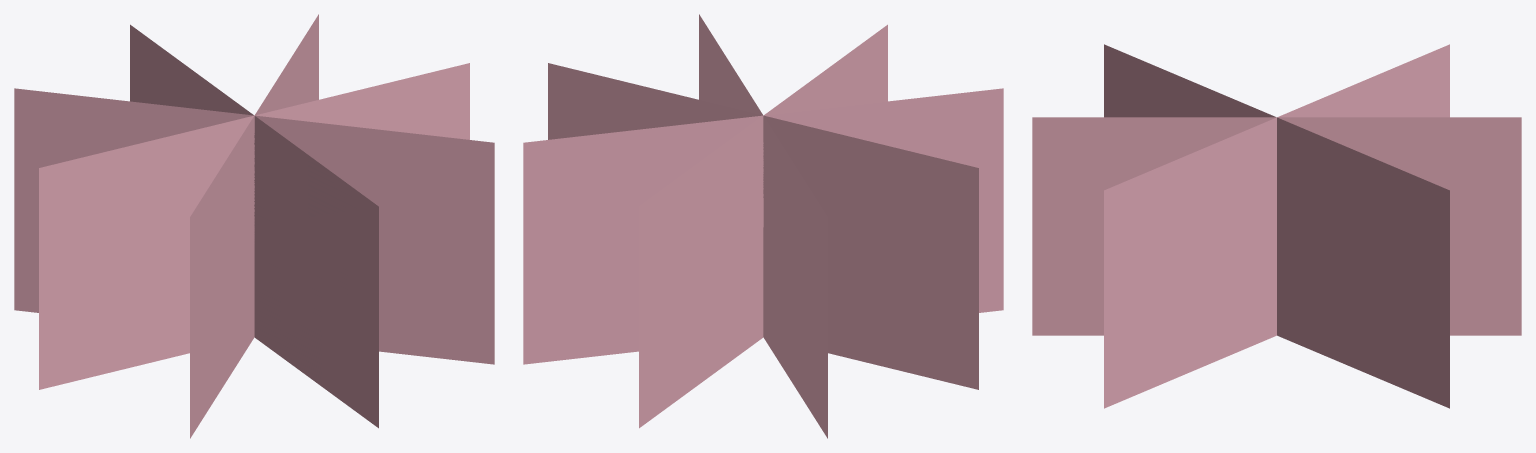
File: Bush.fbx
The picture shows the model from 3 angles, left to right: view 1: azimuth 30°, elevation 25°; view 2: azimuth 150°, elevation 25°; view 3: azimuth 270°, elevation 25°; orthographic projection.
Visible parts, largest first — view 1: Bush; view 2: Bush; view 3: Bush.
Part boxes in pixels (<box>): Bush: <box>14,14,494,438</box>; Bush: <box>523,14,1003,438</box>; Bush: <box>1032,44,1521,408</box>.
Bounding box in the file's own units: 222 × 109 × 222.
